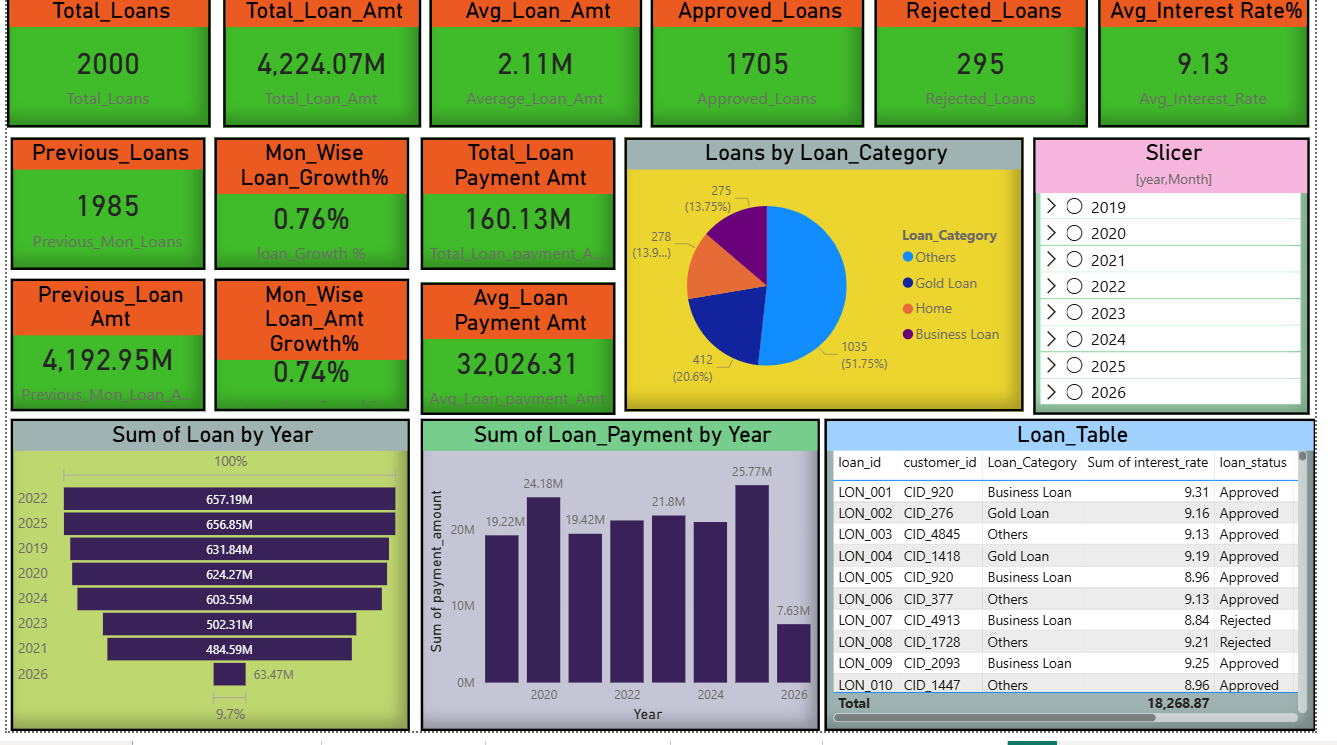

What the dashboard file says about the page in this screenshot:
{"tool":"powerbi","page":{"name":"Loans_Analysis","canvas":[1280,720],"ordinal":3},"visuals":[{"type":"card","title":"Total_Loans","fields":{"Values":["All Measures.Total_Loans"]},"box":[0,0,199.3,129.6],"z":0},{"type":"card","title":"Total_Loan_Amt","fields":{"Values":["All Measures.Total_Loan_Amt"]},"box":[211.6,0,193.2,129.6],"z":1},{"type":"card","title":"Avg_Loan_Amt","fields":{"Values":["All Measures.Average_Loan_Amt"]},"box":[413.3,0,207.9,129.6],"z":2},{"type":"card","title":"Approved_Loans","fields":{"Values":["All Measures.Approved_Loans"]},"box":[629.8,0,209.1,129.6],"z":3},{"type":"card","title":"Rejected_Loans","fields":{"Values":["All Measures.Rejected_Loans"]},"box":[848.6,0,209.1,129.6],"z":4},{"type":"card","title":"Avg_Interest Rate%","fields":{"Values":["All Measures.Avg_Interest_Rate %"]},"box":[1067.5,0,206.7,129.6],"z":5},{"type":"pieChart","title":"  Loans  by  Loan_Category","fields":{"Category":["loan_data.Loan_Category"],"Y":["CountNonNull(loan_data.loan_id)"]},"box":[604.1,139.4,390.1,267.8],"z":6},{"type":"card","title":"Previous_Loans","fields":{"Values":["All Measures.Previous_Loans"]},"box":[3.7,139.4,190.8,129.6],"z":8},{"type":"card","title":"Mon_Wise Loan_Growth%","fields":{"Values":["All Measures.loan_Growth %"]},"box":[203,139.4,190.8,129.6],"z":10},{"type":"card","title":"Previous_Loan Amt","fields":{"Values":["All Measures.Previous_Mon_Loan_Amt"]},"box":[3.7,277.6,190.8,129.6],"z":11},{"type":"card","title":"Mon_Wise Loan_Amt Growth%","fields":{"Values":["All Measures.Loan_Amt_Growth%"]},"box":[203,277.6,190.8,129.6],"z":12},{"type":"card","title":"Total_Loan Payment Amt","fields":{"Values":["All Measures.Total_payment_Amt"]},"box":[404.8,139.4,190.8,129.6],"z":13},{"type":"card","title":"Avg_Loan Payment Amt","fields":{"Values":["All Measures.Avg_Loan_payment_Amt"]},"box":[404.8,281.3,190.8,129.6],"z":14},{"type":"funnel","title":" Sum of Loan by Year","fields":{"Category":["loan_data.Year"],"Y":["Sum(loan_data.loan_amount)"]},"box":[3.7,414.5,390.1,305.7],"z":15},{"type":"listSlicer","title":"Slicer","fields":{"Values":["loan_data.loan_start_date.Variation.Date Hierarchy.Year","loan_data.loan_start_date.Variation.Date Hierarchy.Month"]},"box":[1003.9,139.4,270.2,271.5],"z":16},{"type":"columnChart","title":" Sum of Loan_Payment by Year","fields":{"Y":["Sum(loan_payment_data.payment_amount)"],"Category":["loan_payment_data.Year"]},"box":[404.8,414.5,390.1,305.7],"z":18},{"type":"tableEx","title":"Loan_Table","fields":{"Values":["loan_data.loan_id","loan_data.customer_id","loan_data.Loan_Category","Sum(loan_data.interest_rate)","loan_data.loan_status","loan_data.loan_start_date.Variation.Date Hierarchy.Year","loan_data.loan_start_date.Variation.Date Hierarchy.Quarter","loan_data.loan_start_date.Variation.Date Hierarchy.Month","loan_data.loan_start_date.Variation.Date Hierarchy.Day"]},"box":[799.7,414.5,480.6,305.7],"z":19}]}

Visuals, with their boxes in screenshot pixels (x1, y1, x2, y2), scaled from the page's 1280x720 canvas onto the 1337x745 screenshot:
"Total_Loans" card: left=0, top=0, right=208, bottom=134
"Total_Loan_Amt" card: left=221, top=0, right=423, bottom=134
"Avg_Loan_Amt" card: left=432, top=0, right=649, bottom=134
"Approved_Loans" card: left=658, top=0, right=876, bottom=134
"Rejected_Loans" card: left=886, top=0, right=1105, bottom=134
"Avg_Interest Rate%" card: left=1115, top=0, right=1331, bottom=134
"  Loans  by  Loan_Category" pieChart: left=631, top=144, right=1038, bottom=421
"Previous_Loans" card: left=4, top=144, right=203, bottom=278
"Mon_Wise Loan_Growth%" card: left=212, top=144, right=411, bottom=278
"Previous_Loan Amt" card: left=4, top=287, right=203, bottom=421
"Mon_Wise Loan_Amt Growth%" card: left=212, top=287, right=411, bottom=421
"Total_Loan Payment Amt" card: left=423, top=144, right=622, bottom=278
"Avg_Loan Payment Amt" card: left=423, top=291, right=622, bottom=425
" Sum of Loan by Year" funnel: left=4, top=429, right=411, bottom=744
"Slicer" listSlicer: left=1049, top=144, right=1331, bottom=425
" Sum of Loan_Payment by Year" columnChart: left=423, top=429, right=830, bottom=744
"Loan_Table" tableEx: left=835, top=429, right=1336, bottom=744
